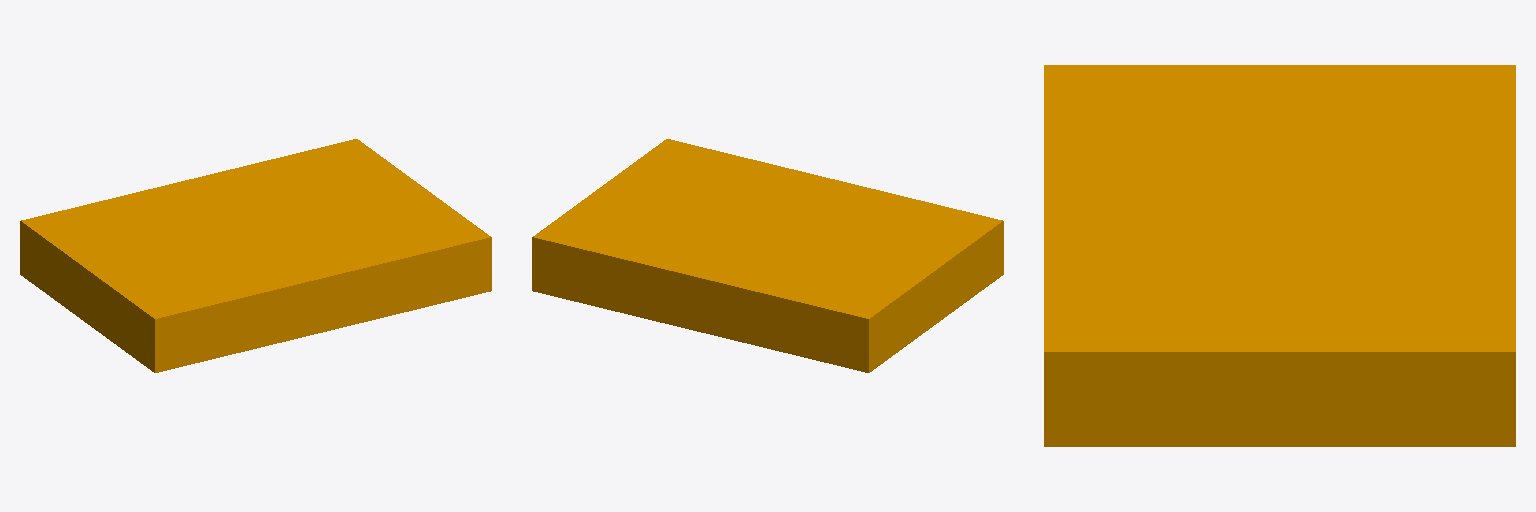
URDF robot description (myfirst):
<?xml version="1.0"?>
<robot name="myfirst">
  <link name="base_link">
    <visual>
      <geometry>
        <box size="0.650 0.450 0.100"/>
      </geometry>
    </visual>
  </link>
</robot>

--- What the picture shows (computed from the rendered views, not written in the file) ---
3 views of the same robot in one strip: view 1: azimuth 30°, elevation 25°; view 2: azimuth 150°, elevation 25°; view 3: azimuth 270°, elevation 25° (orthographic).
Model myfirst with 1 links and 0 joints (none), rooted at base_link, posed all joints at 0.
Visible links, largest first — view 1: base_link; view 2: base_link; view 3: base_link.
Link boxes in pixels (x1,y1,x2,y2): base_link: [20, 139, 491, 372]; base_link: [532, 139, 1003, 372]; base_link: [1044, 65, 1515, 446].
Size in the robot's own frame: 0.65 by 0.45 by 0.1 metres.
Geometry: primitives only (box / cylinder / sphere), no mesh files.
